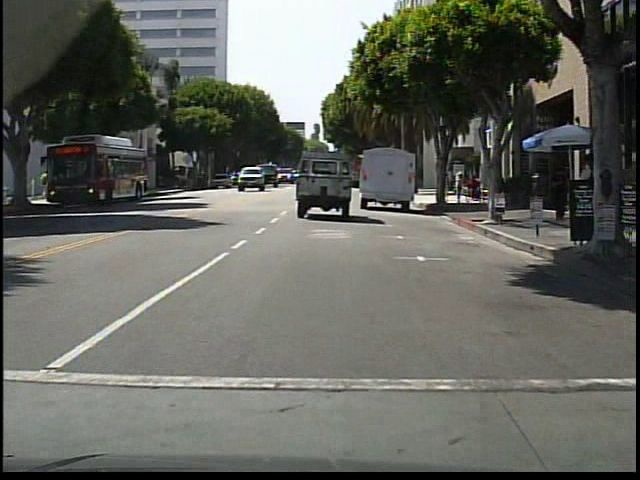person: (574, 151, 602, 241), (551, 168, 569, 221), (452, 170, 464, 205), (442, 166, 453, 203), (40, 170, 51, 198)
